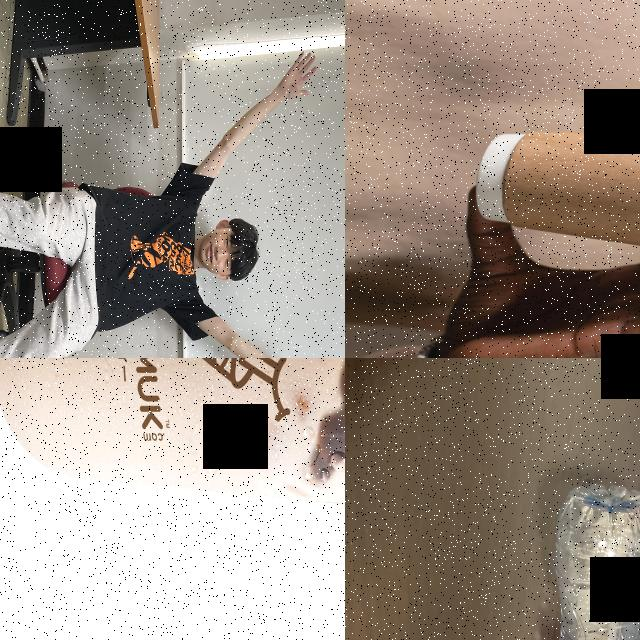bottle: (544, 479, 640, 640)
cup: (0, 358, 345, 544), (472, 125, 640, 266)
